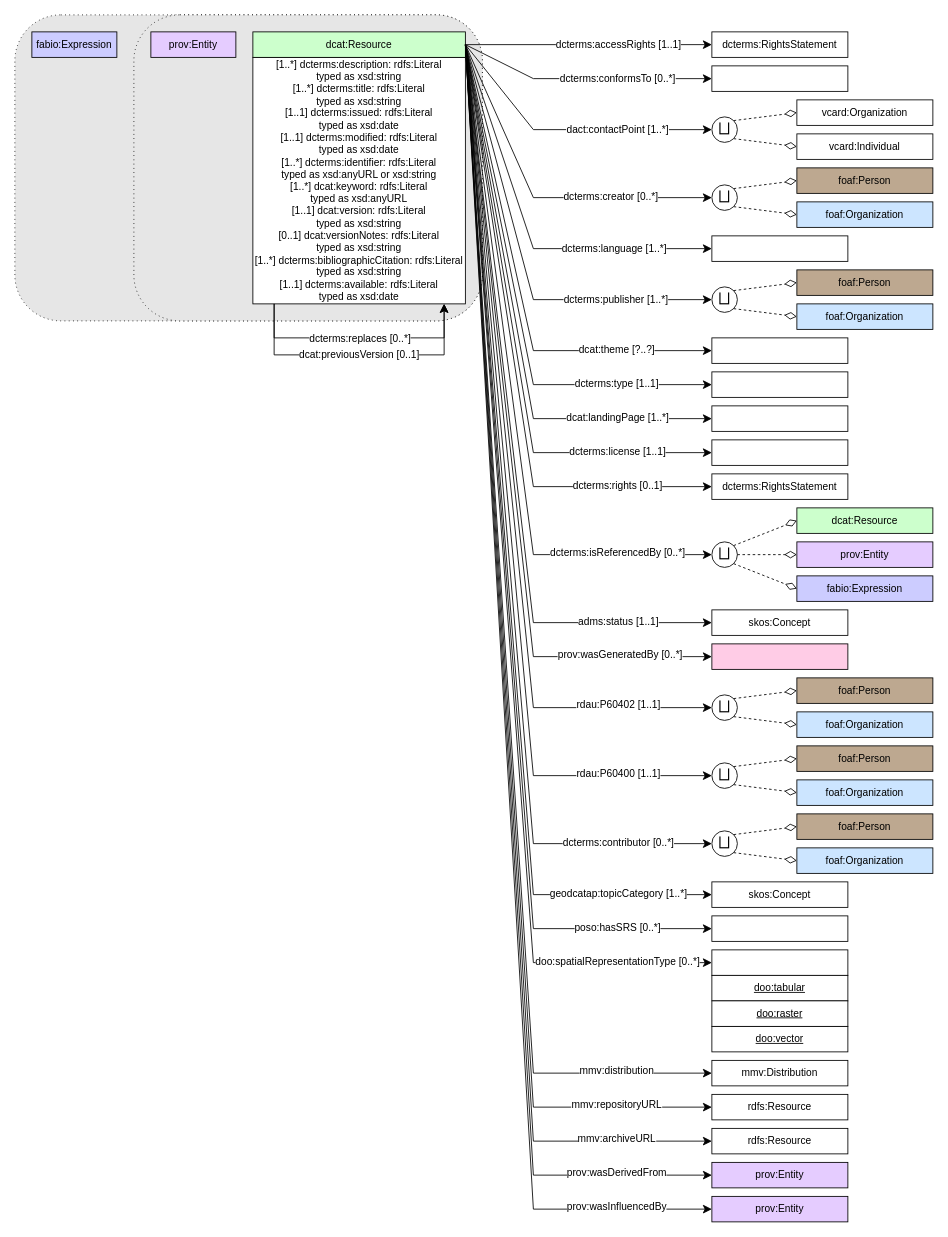
Image size: 948x1237. Some labels were removed from this diagram. Here are the shapes that lost their labels. From the top down, the box of each, then its label:
(711, 65, 848, 91): dcterms:Standard
(711, 235, 848, 261): dcterms:LinguisticSystem
(711, 337, 848, 363): skos:Concept (probs)
(711, 371, 848, 397): rdfs:Class
(711, 405, 848, 431): foaf:Document
(711, 439, 848, 465): dcterms:LicenseDocument
(711, 643, 848, 669): prov:Activity
(711, 915, 848, 941): poso:SRS
(711, 949, 848, 975): doo:SpatialRepresentation
